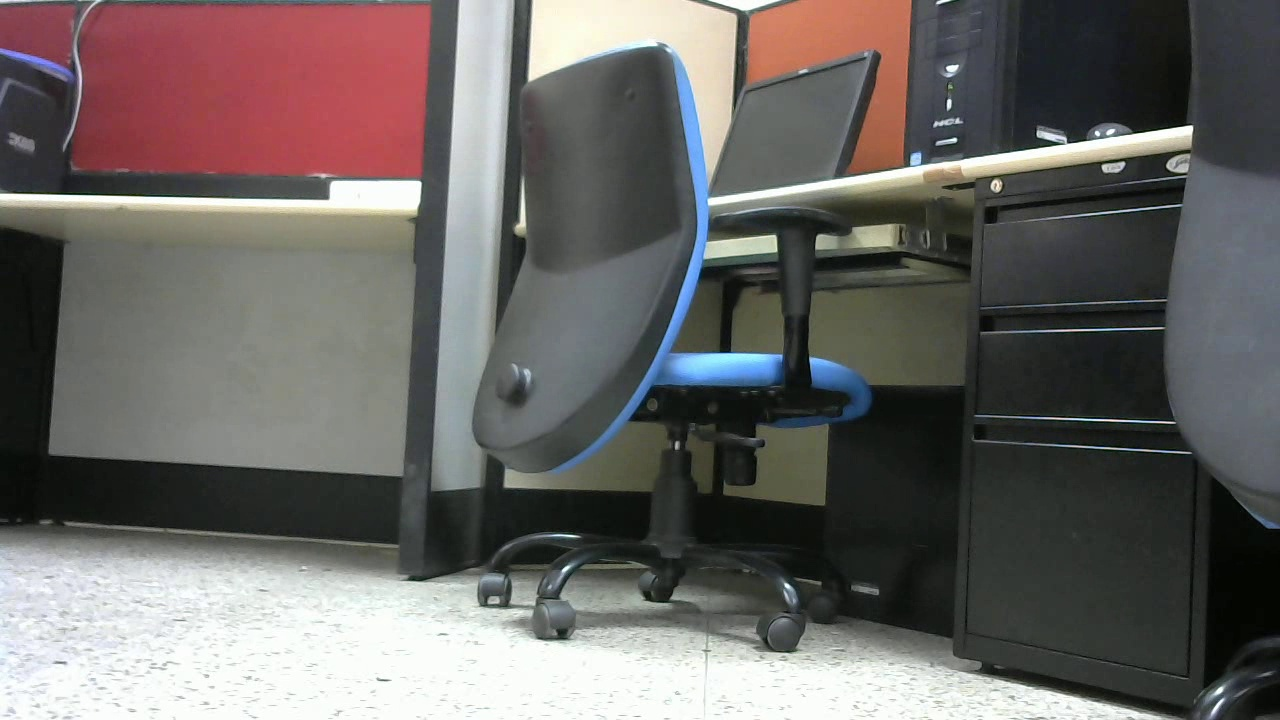chair: (475, 34, 877, 651)
